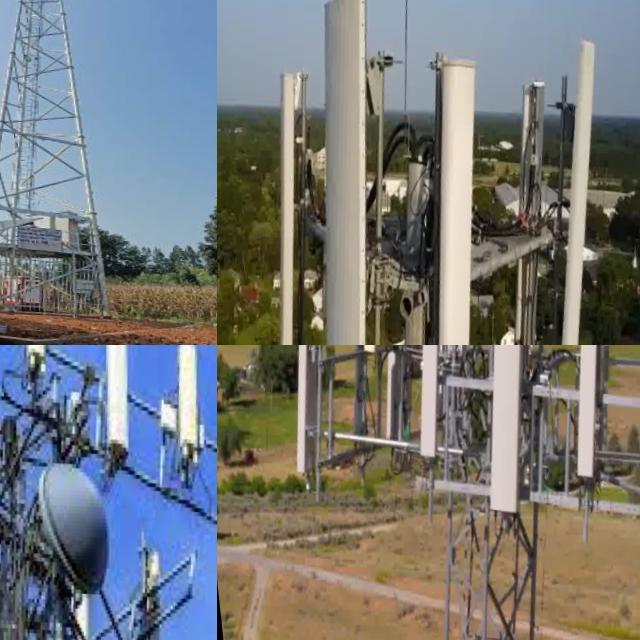GSM Antenna: (255, 0, 428, 345), (368, 48, 522, 345), (520, 40, 623, 345), (236, 58, 330, 345), (483, 85, 568, 345), (451, 345, 552, 525), (259, 345, 354, 487), (546, 345, 613, 495), (76, 345, 149, 468), (392, 345, 458, 479), (354, 345, 430, 450), (155, 345, 209, 468)
Microwave Antenna: (13, 465, 122, 611)
